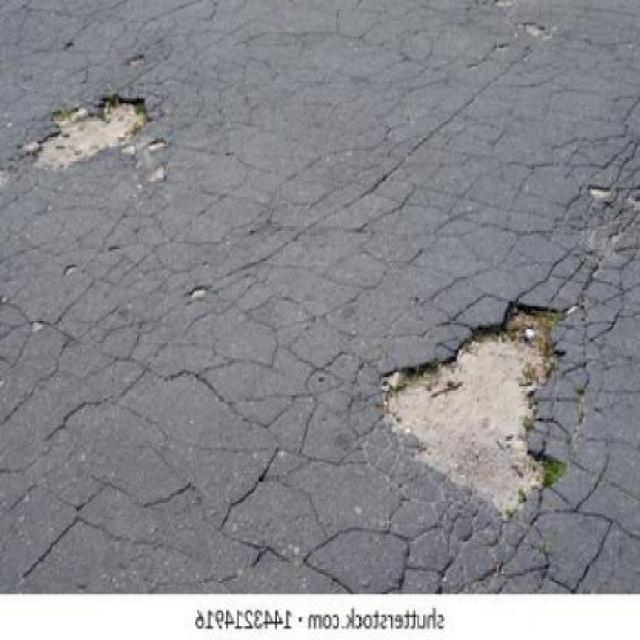pothole: (378, 297, 567, 519), (32, 96, 154, 169)
